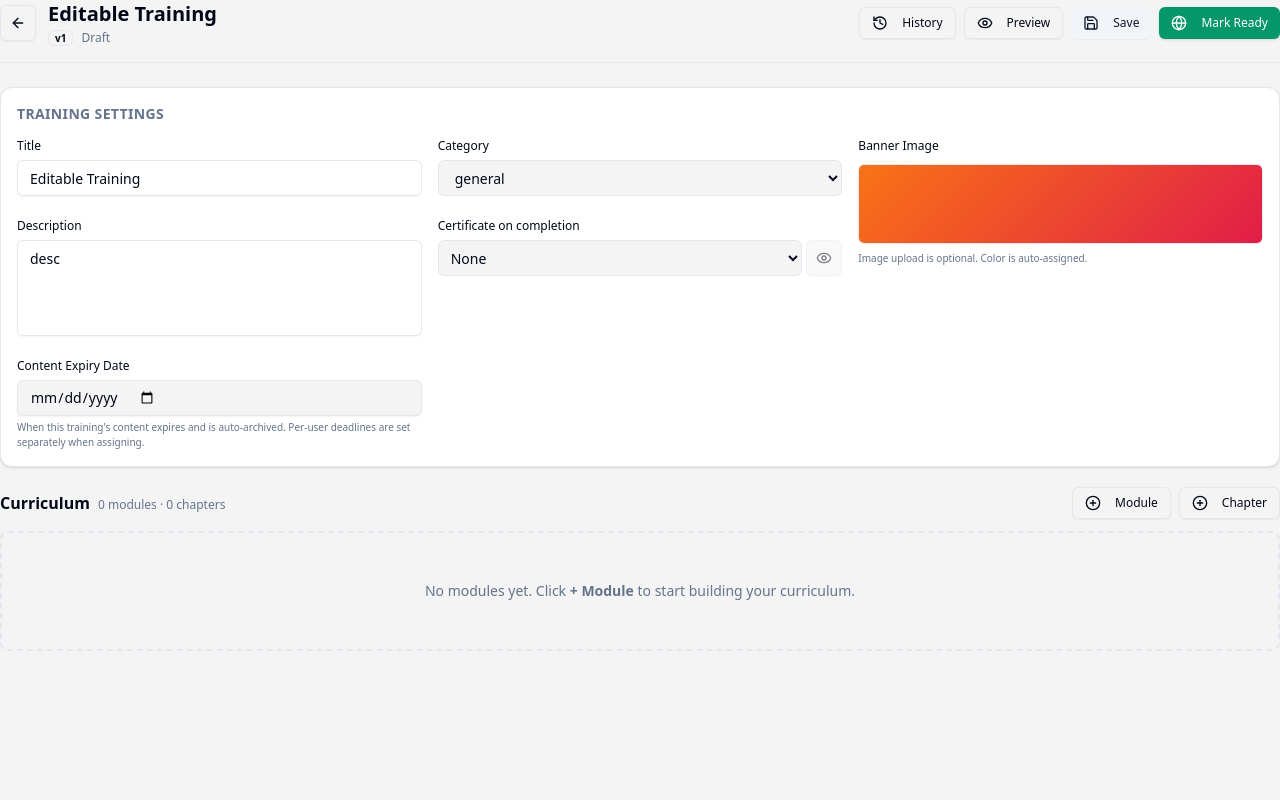
it: ManagerTrainingEditor — quiz type picker (change_list item 3) › shows all 5 quiz question types when adding a Quiz chapter
Check: the heading "Editable Training" is shown, box [48, 0, 217, 28]
Click "+ Chapter" (standalone)
What coordinates should you click on to do the following:
click the button "Chapter"
I would click on:
 (1229, 503)
Its box is [1179, 487, 1279, 519].
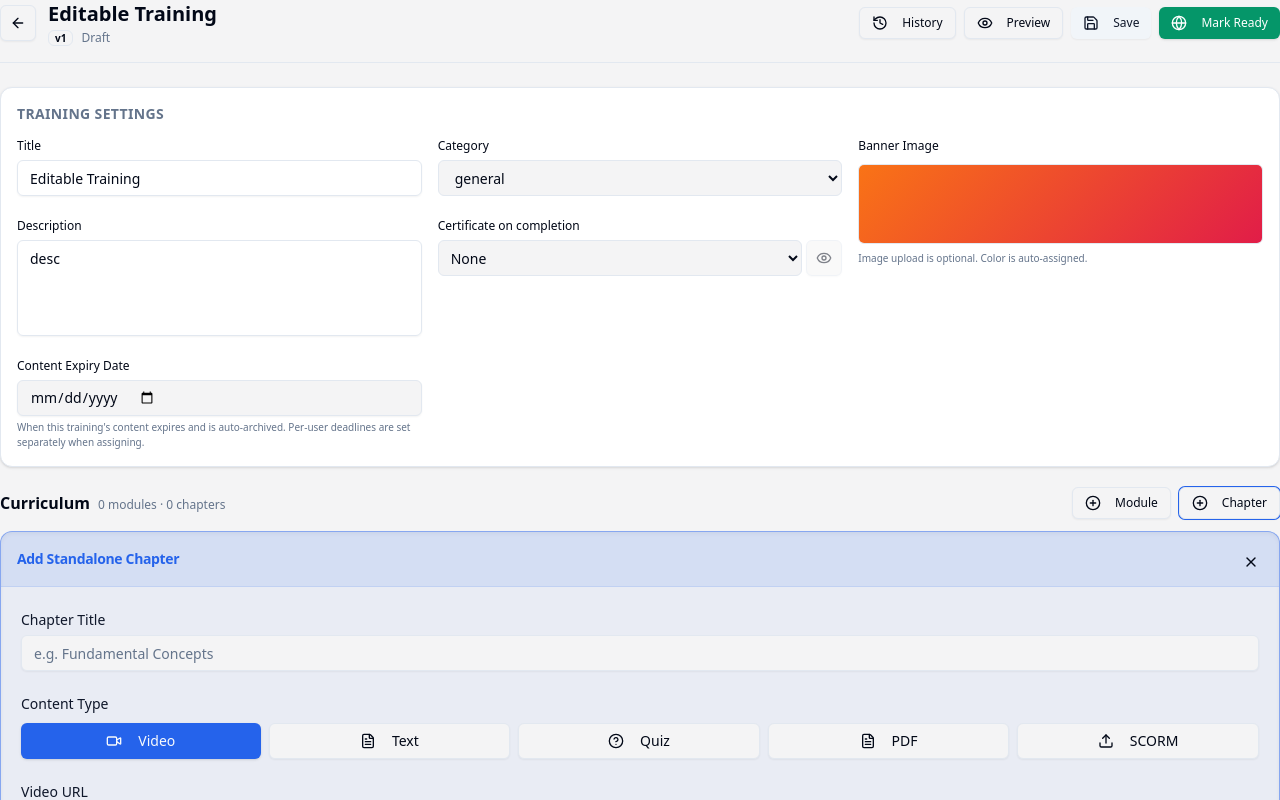
Switch the content type to Quiz
What coordinates should you click on to do the following:
click the button "Quiz"
I would click on:
 (639, 741)
Its box is [518, 723, 760, 759].
(page scrolled)
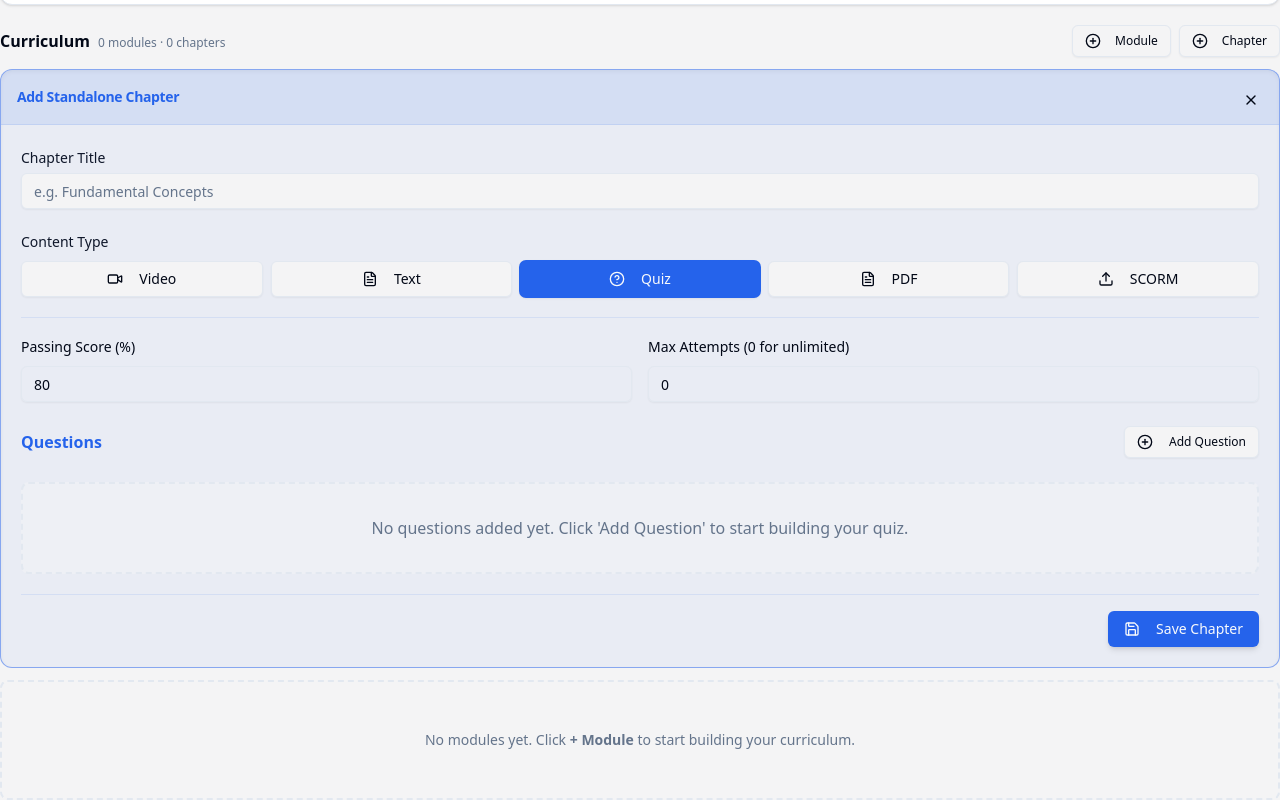
Add a question
What coordinates should you click on to do the following:
click the button "Add Question"
I would click on:
 (1192, 442)
Its box is [1124, 426, 1259, 458].
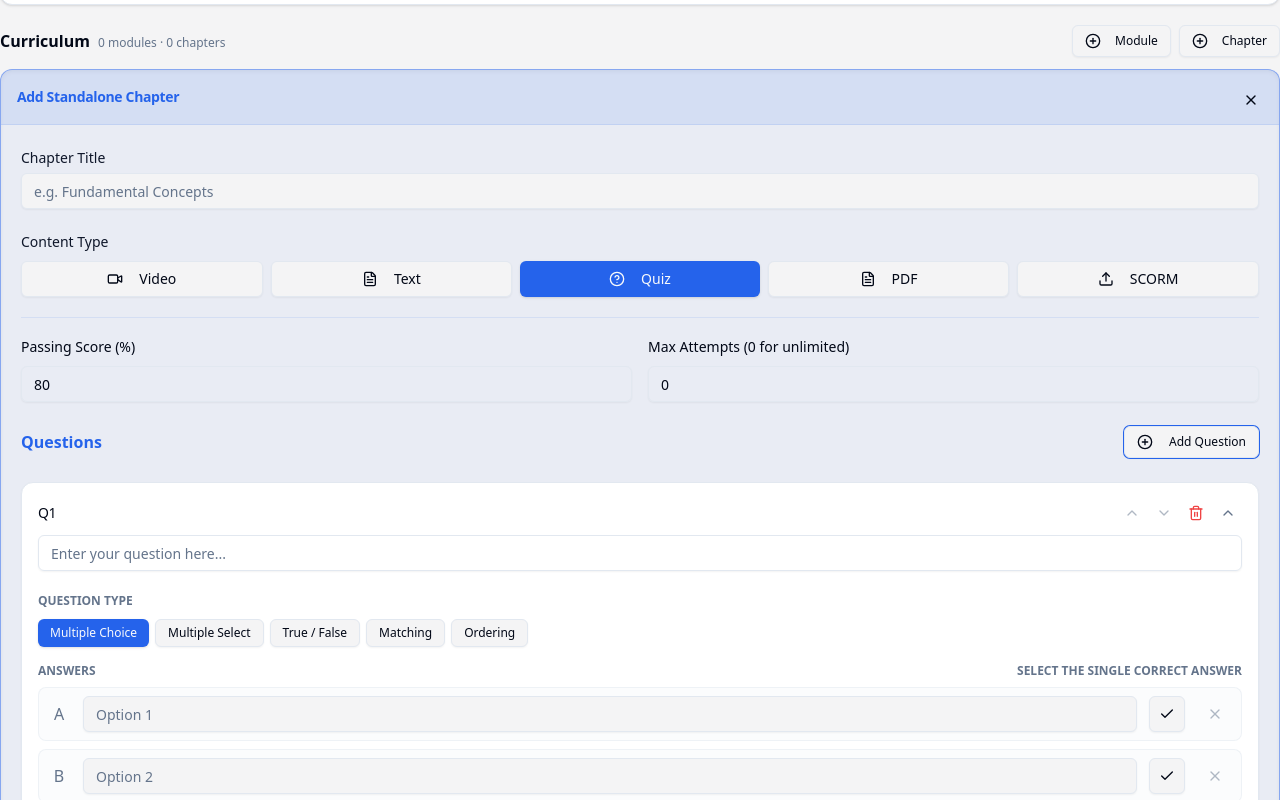
Check: the button "Multiple Choice" is shown, box [38, 619, 149, 647]
Check: the button "Multiple Select" is shown, box [155, 619, 264, 647]
Check: the button "True / False" is shown, box [270, 619, 360, 647]
